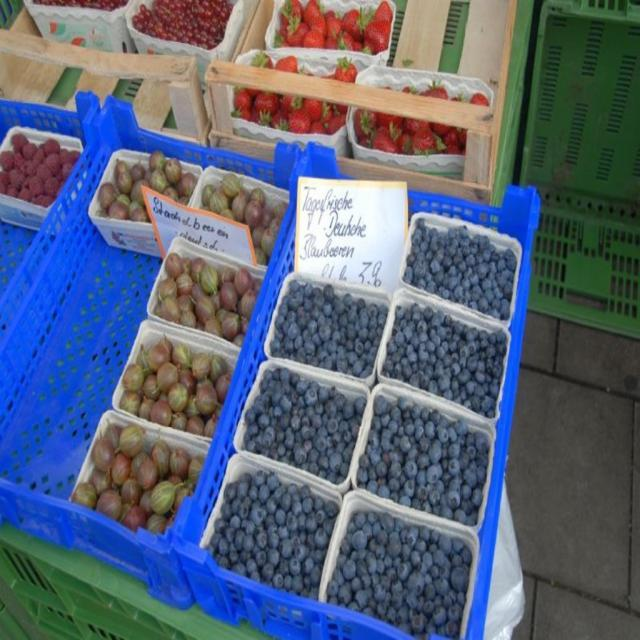Strawberry: (362, 15, 392, 57), (254, 93, 274, 131), (279, 0, 308, 26), (284, 22, 309, 51), (343, 8, 366, 39), (442, 128, 464, 160), (325, 111, 351, 138), (287, 110, 313, 135), (338, 28, 364, 53), (234, 87, 254, 119), (336, 57, 358, 84), (415, 126, 439, 150), (252, 45, 274, 71), (370, 126, 392, 152), (469, 85, 491, 110), (354, 111, 374, 138), (272, 27, 292, 49), (308, 120, 328, 142), (393, 133, 413, 155), (271, 109, 289, 133), (300, 28, 324, 46), (305, 97, 322, 121), (309, 0, 324, 27), (280, 93, 300, 113), (373, 0, 393, 20), (358, 131, 373, 156), (327, 18, 344, 40), (277, 55, 299, 71), (319, 105, 341, 121), (321, 32, 339, 49), (334, 98, 349, 114), (389, 115, 409, 126), (430, 88, 448, 100), (459, 127, 468, 147), (451, 94, 461, 102), (401, 84, 411, 90)
